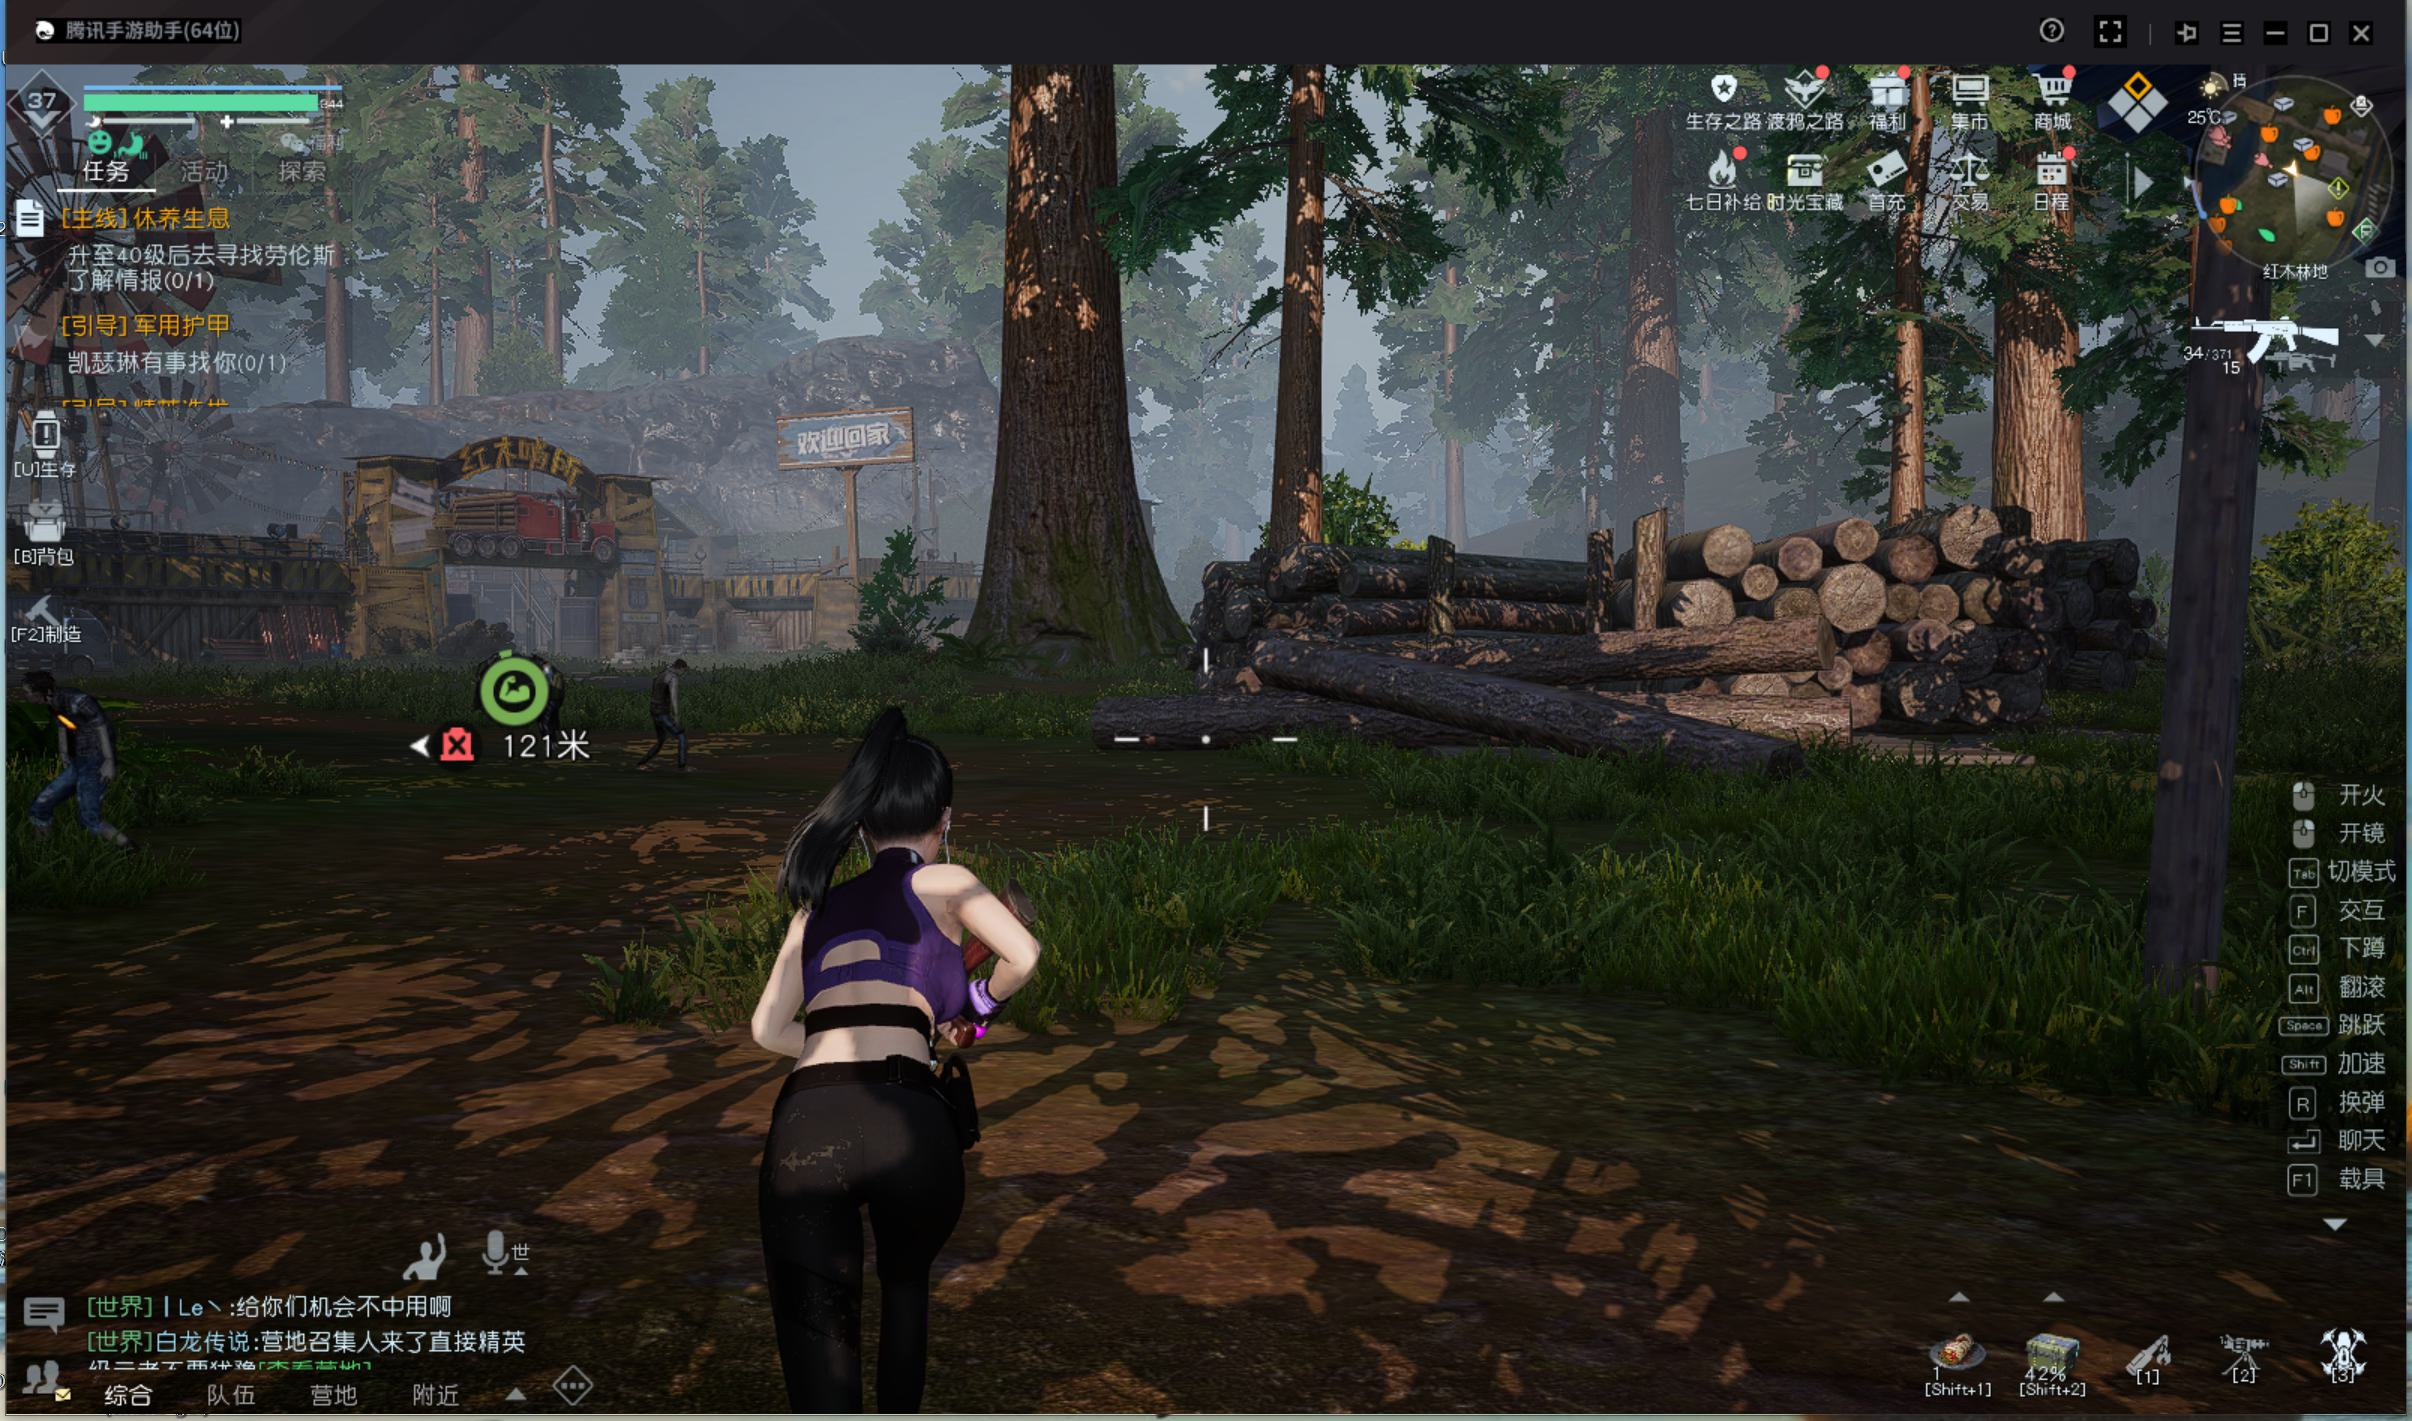tree: (988, 135, 1159, 668), (1269, 151, 1331, 563), (1620, 161, 1680, 541)
